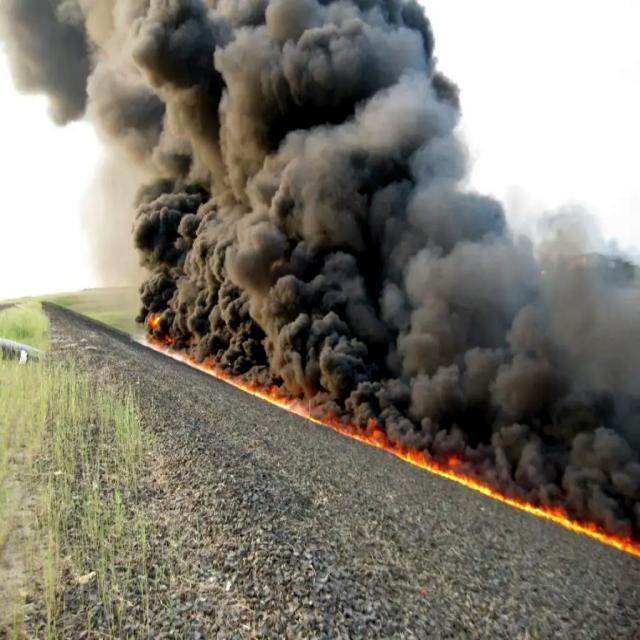Smoke: (54, 0, 618, 493)
